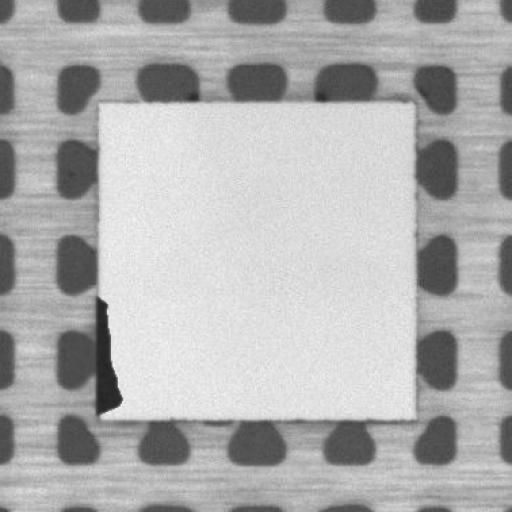DIE_BROKEN: (90, 290, 124, 422)
